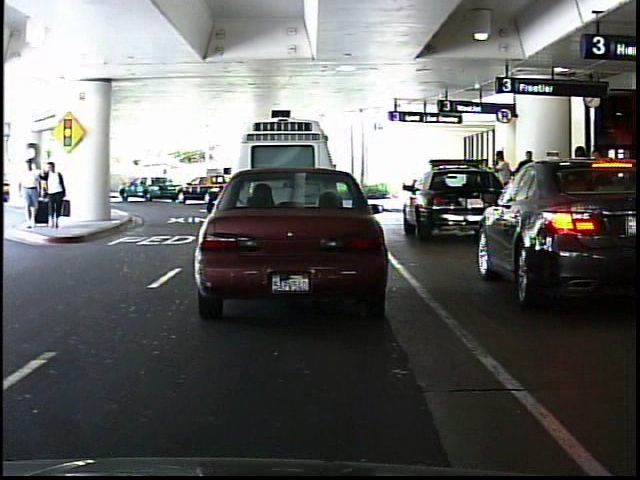person: (487, 146, 518, 225), (39, 159, 67, 231), (18, 154, 41, 229), (323, 158, 345, 200), (157, 165, 175, 198)
